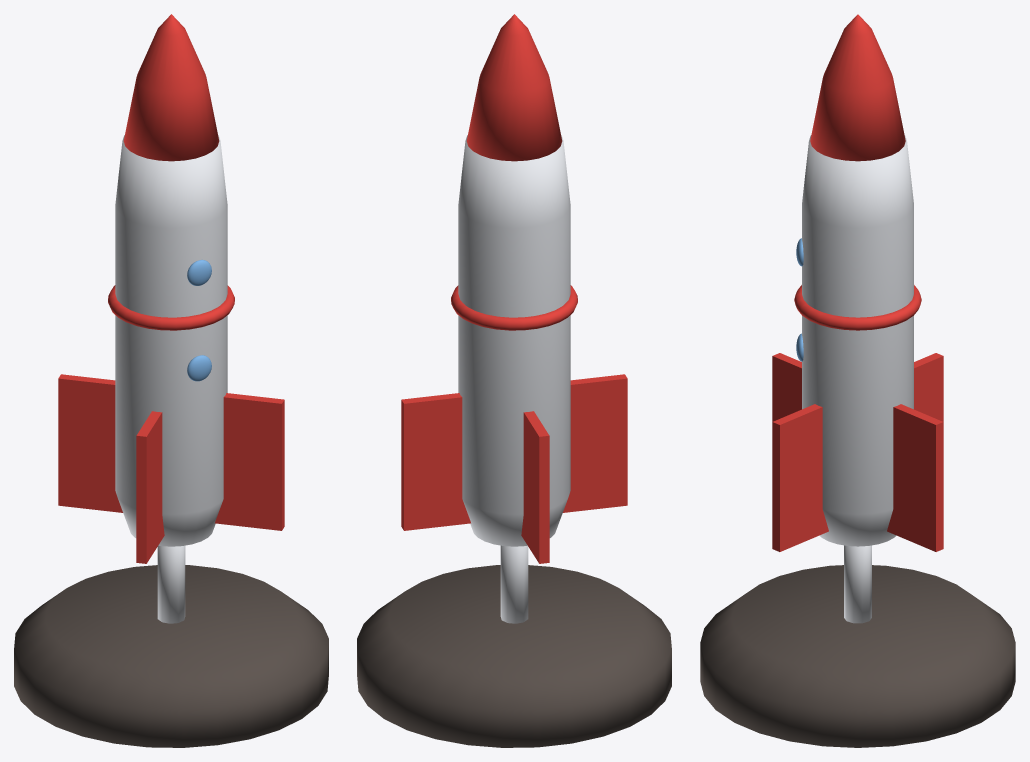
Rendered from shelf_rocket.glb.
3 views of the same model, side by side, from view 1: azimuth 30°, elevation 25°; view 2: azimuth 150°, elevation 25°; view 3: azimuth 270°, elevation 25° (orthographic).
Visible parts, largest first — view 1: shelf_rocket; view 2: shelf_rocket; view 3: shelf_rocket.
Boxes of the visible parts, box(x1,y1,x2,y2) form: shelf_rocket: box(14, 14, 328, 747); shelf_rocket: box(357, 14, 671, 747); shelf_rocket: box(700, 14, 1015, 747).
Size of the model in its own units: 0.09 by 0.21 by 0.09.
